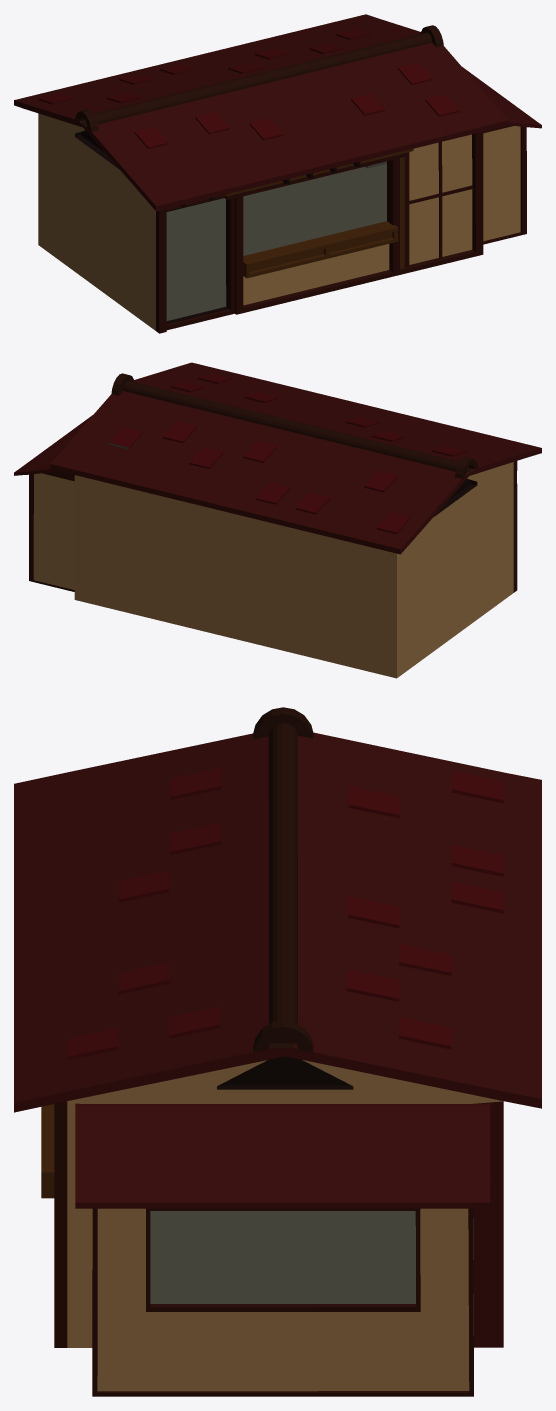
The model's file is restuarant.fbx.
The picture shows the model from 3 angles, top to bottom: view 1: azimuth 30°, elevation 25°; view 2: azimuth 150°, elevation 25°; view 3: azimuth 270°, elevation 25°; orthographic projection. The views are drawn at different scales.
Visible parts, largest first — view 1: Cube; view 2: Cube; view 3: Cube.
Boxes of the visible parts, box(x1,y1,x2,y2) form: Cube: box(14, 14, 541, 333); Cube: box(14, 362, 541, 678); Cube: box(14, 707, 541, 1396).
Bounding box in the file's own units: 8.21 × 3.5 × 5.02.
